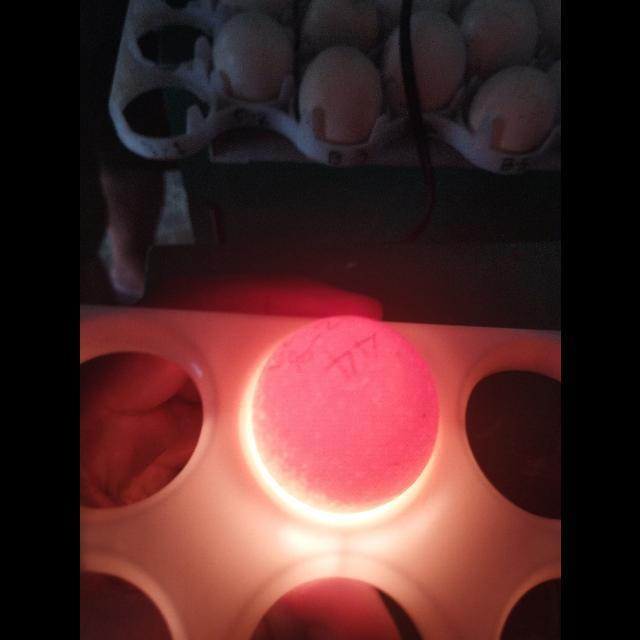Infertile: (248, 312, 442, 518)
